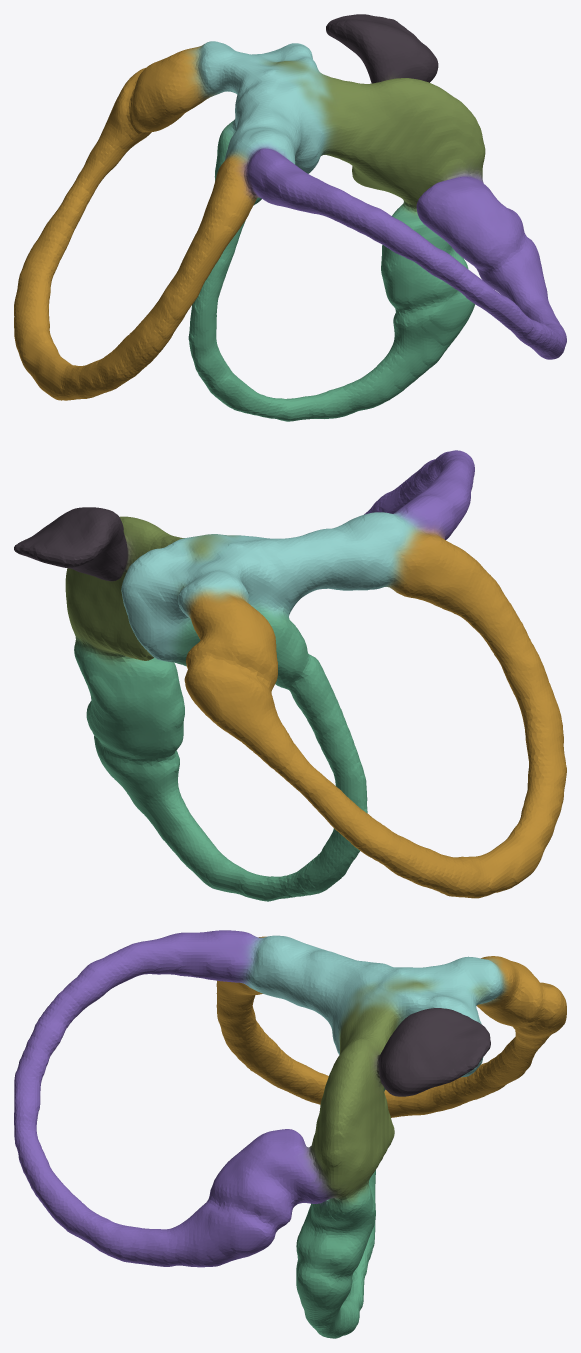
The model's file is labyrinth-skin.obj.
The picture shows the model from 3 angles, top to bottom: view 1: azimuth 30°, elevation 25°; view 2: azimuth 150°, elevation 25°; view 3: azimuth 270°, elevation 25°; orthographic projection. The views are drawn at different scales.
Bounding box in the file's own units: 0.0102 × 0.00783 × 0.0111.
